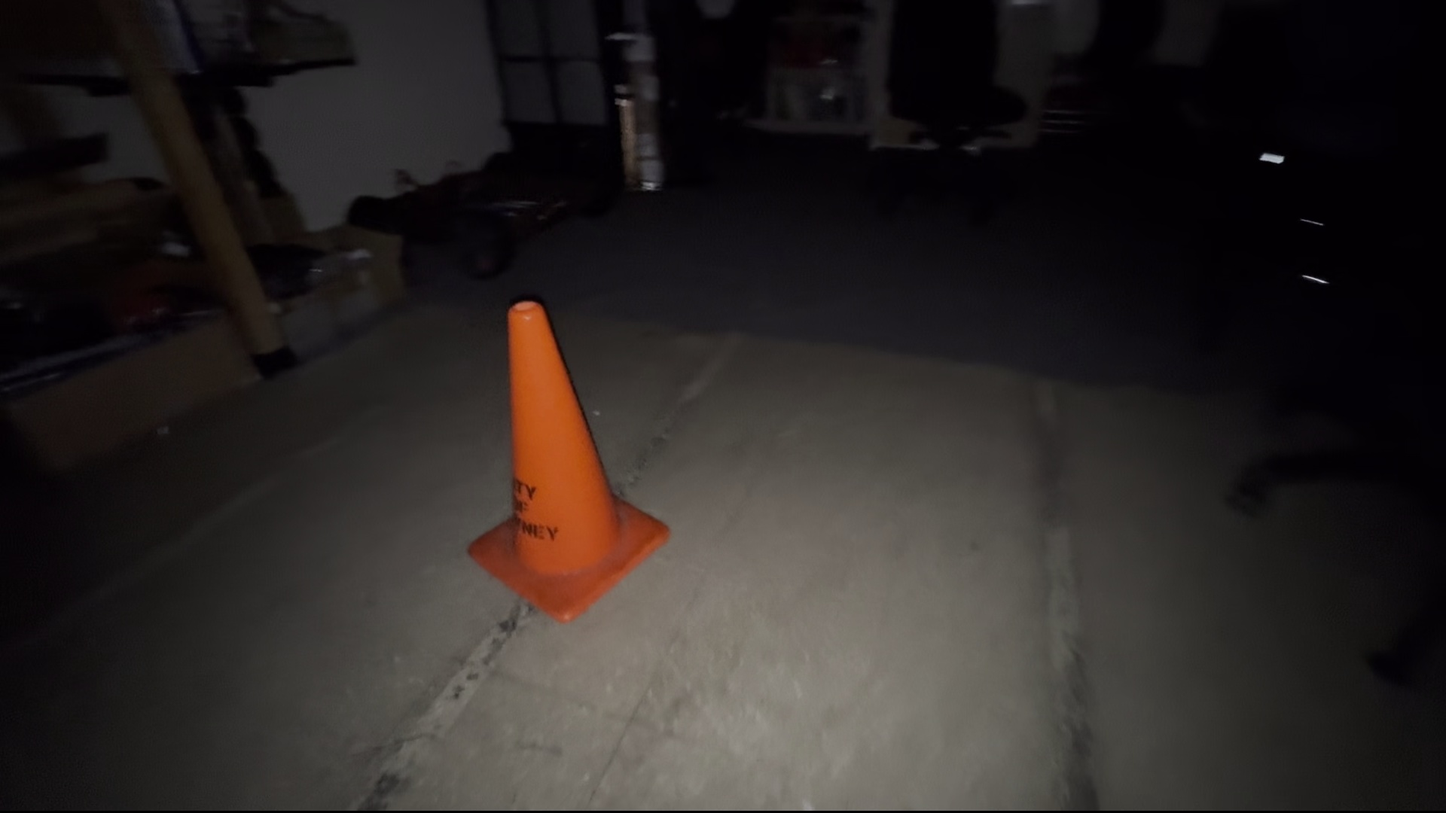traffic_cone: (465, 297, 671, 624)
